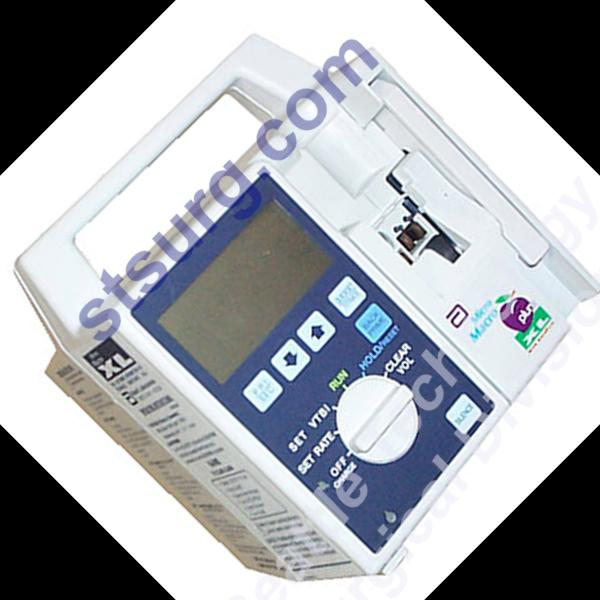plumxl1: (20, 39, 589, 579)
